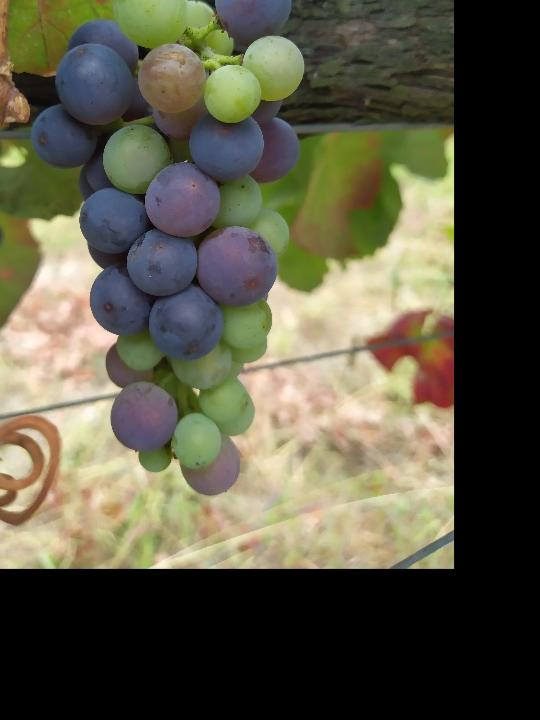grape: (29, 0, 308, 498)
